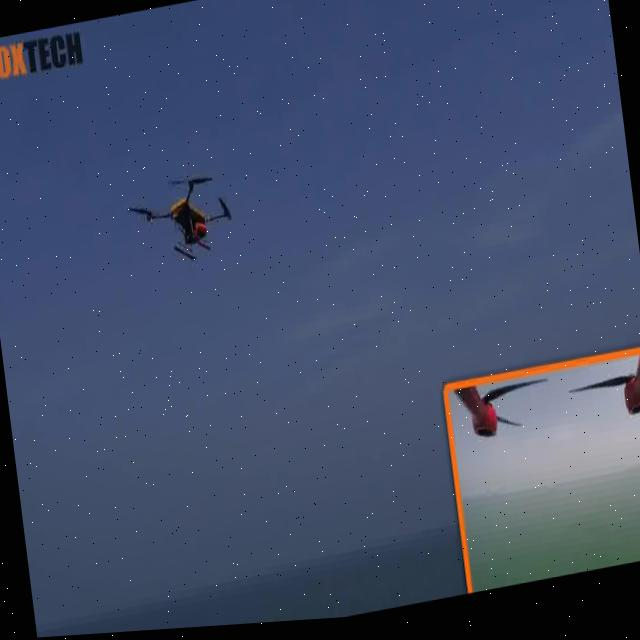drone: (121, 147, 250, 285)
